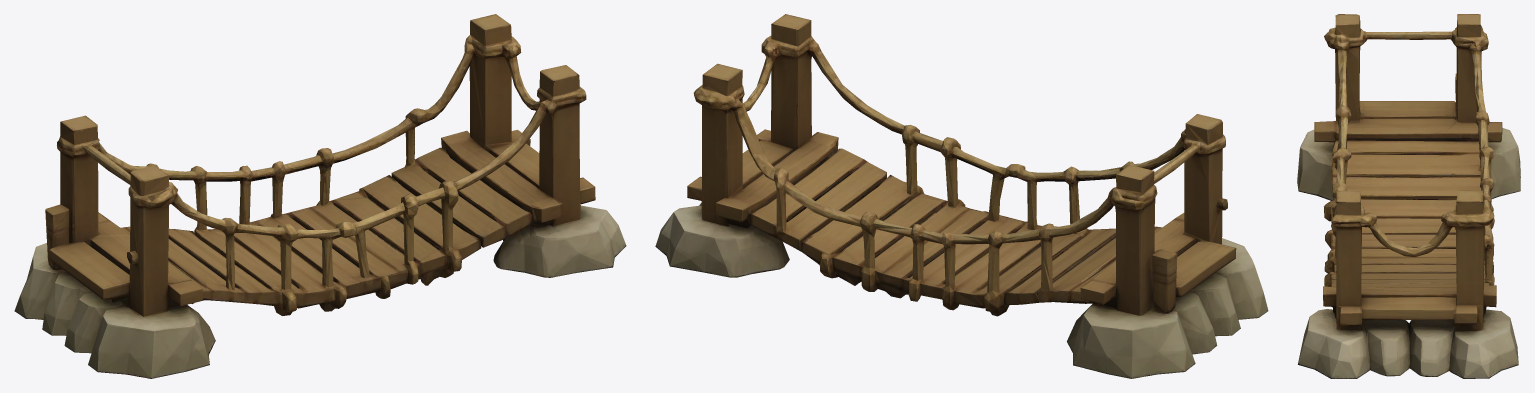
The model's file is rope_bridge.glb.
3 renders of one model, left to right at view 1: azimuth 30°, elevation 25°; view 2: azimuth 150°, elevation 25°; view 3: azimuth 270°, elevation 25°, orthographic. The views are drawn at different scales.
Parts seen in each view (by area): view 1: world; view 2: world; view 3: world.
Boxes of the visible parts, x1,y1,x2,y2 form: world: (14,14,626,378); world: (655,14,1268,378); world: (1297,14,1520,378).
Size of the model in its own units: 0.9983 by 0.3268 by 0.4175.
Materials: 1 (1 with a texture image).
